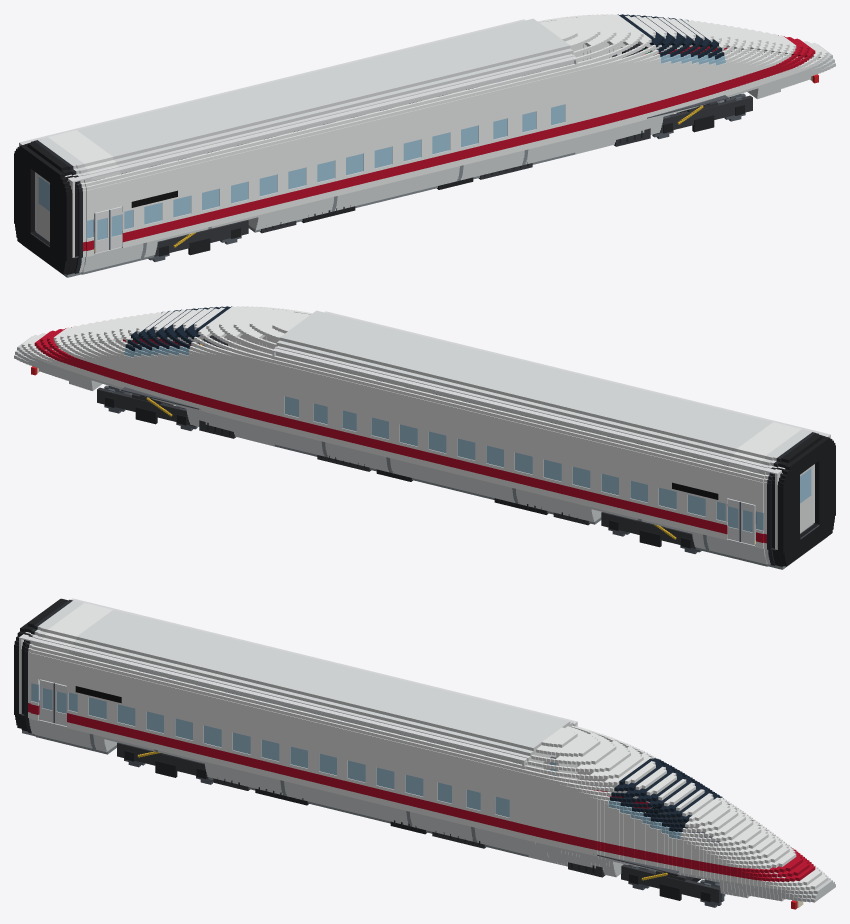
Rendered from fuxing_front.obj.
3 renders of one model, top to bottom at view 1: azimuth 30°, elevation 25°; view 2: azimuth 150°, elevation 25°; view 3: azimuth 330°, elevation 25°, orthographic.
Visible parts, largest first — view 1: SHELL, SHELL_diaphragm, SHELL_ceiling, BOGEY_FRONT, BOGEY_REAR, FRAME, CONNECTING_DOOR_1_CG_CR_TOGGLE_TL_0.98_Z, EXTERNAL_DOOR_3_CG_DR1_TOGGLE_TL_-0.44_X, EXTERNAL_DOOR_4_CG_DR1_TOGGLE_TL_0.44_X; view 2: SHELL, SHELL_diaphragm, SHELL_ceiling, BOGEY_FRONT, BOGEY_REAR, FRAME, CONNECTING_DOOR_1_CG_CR_TOGGLE_TL_0.98_Z, EXTERNAL_DOOR_6_CG_DL1_TOGGLE_TL_-0.44_X, EXTERNAL_DOOR_7_CG_DL1_TOGGLE_TL_0.44_X; view 3: SHELL, SHELL_ceiling, BOGEY_FRONT, BOGEY_REAR, FRAME, EXTERNAL_DOOR_3_CG_DR1_TOGGLE_TL_-0.44_X.
Part boxes in pixels (x1,y1,x2,y2): SHELL: (22, 14, 835, 277); SHELL_diaphragm: (14, 144, 70, 274); SHELL_ceiling: (21, 20, 575, 182); BOGEY_FRONT: (654, 95, 752, 134); BOGEY_REAR: (154, 220, 248, 256); FRAME: (260, 128, 650, 233); CONNECTING_DOOR_1_CG_CR_TOGGLE_TL_0.98_Z: (37, 173, 49, 241); EXTERNAL_DOOR_3_CG_DR1_TOGGLE_TL_-0.44_X: (94, 209, 110, 253); EXTERNAL_DOOR_4_CG_DR1_TOGGLE_TL_0.44_X: (109, 206, 124, 249); SHELL: (14, 306, 827, 569); SHELL_diaphragm: (779, 436, 835, 566); SHELL_ceiling: (274, 312, 828, 474); BOGEY_FRONT: (97, 387, 195, 426); BOGEY_REAR: (601, 512, 695, 548); FRAME: (199, 420, 589, 525); CONNECTING_DOOR_1_CG_CR_TOGGLE_TL_0.98_Z: (800, 465, 812, 533); EXTERNAL_DOOR_6_CG_DL1_TOGGLE_TL_-0.44_X: (739, 501, 755, 545); EXTERNAL_DOOR_7_CG_DL1_TOGGLE_TL_0.44_X: (725, 498, 740, 541); SHELL: (18, 598, 835, 902); SHELL_ceiling: (21, 599, 574, 761); BOGEY_FRONT: (621, 864, 721, 903); BOGEY_REAR: (117, 742, 208, 778); FRAME: (213, 778, 605, 877); EXTERNAL_DOOR_3_CG_DR1_TOGGLE_TL_-0.44_X: (40, 679, 54, 723).
Size of the model in its own units: 27.26 by 4 by 3.38.
1 material, 1 textured.
